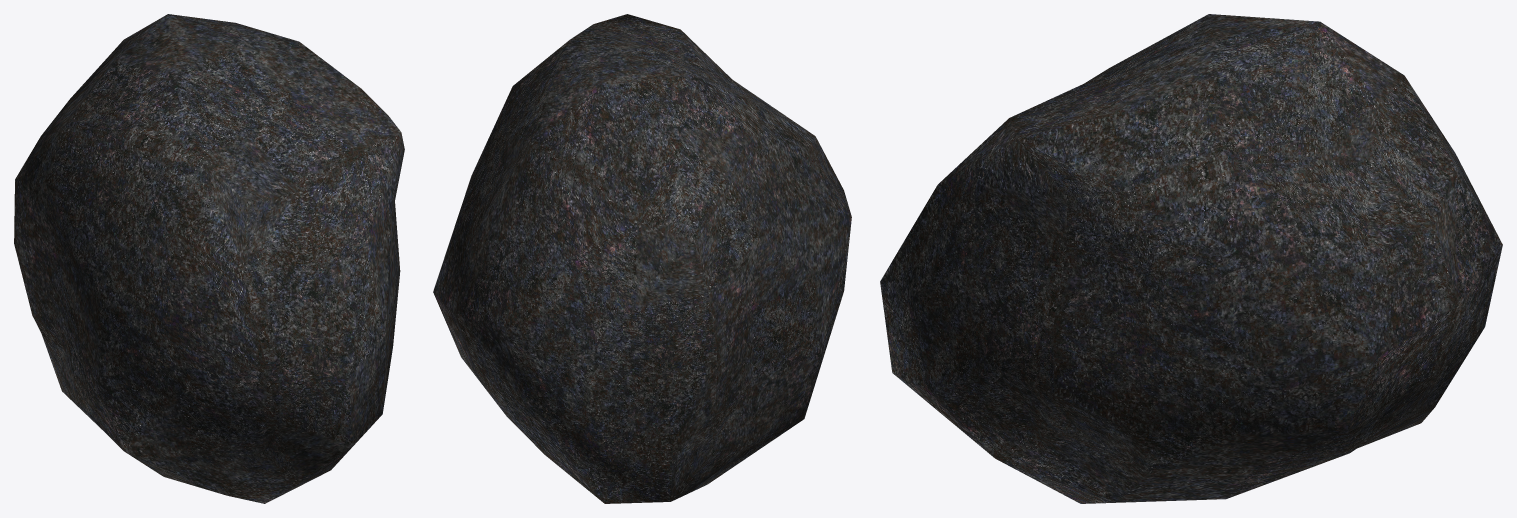
Rendered from asteroid_metal_radial_s02_l0.fbx.
The picture shows the model from 3 angles, left to right: view 1: azimuth 30°, elevation 25°; view 2: azimuth 150°, elevation 25°; view 3: azimuth 270°, elevation 25°; orthographic projection. The views are drawn at different scales.
Visible parts, largest first — view 1: mesh_node; view 2: mesh_node; view 3: mesh_node.
Part boxes in pixels (bbox=[...]): mesh_node: bbox=[14, 14, 404, 503]; mesh_node: bbox=[433, 14, 851, 503]; mesh_node: bbox=[880, 14, 1502, 503].
Size of the model in its own units: 2.93 by 3.96 by 4.61.
